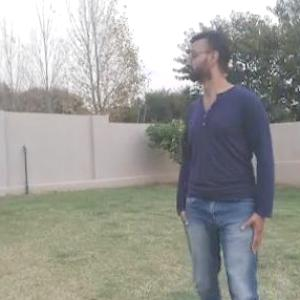follow: (173, 19, 279, 299)
